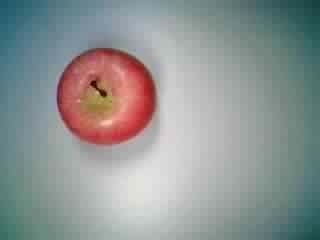apple: (55, 45, 159, 146)
